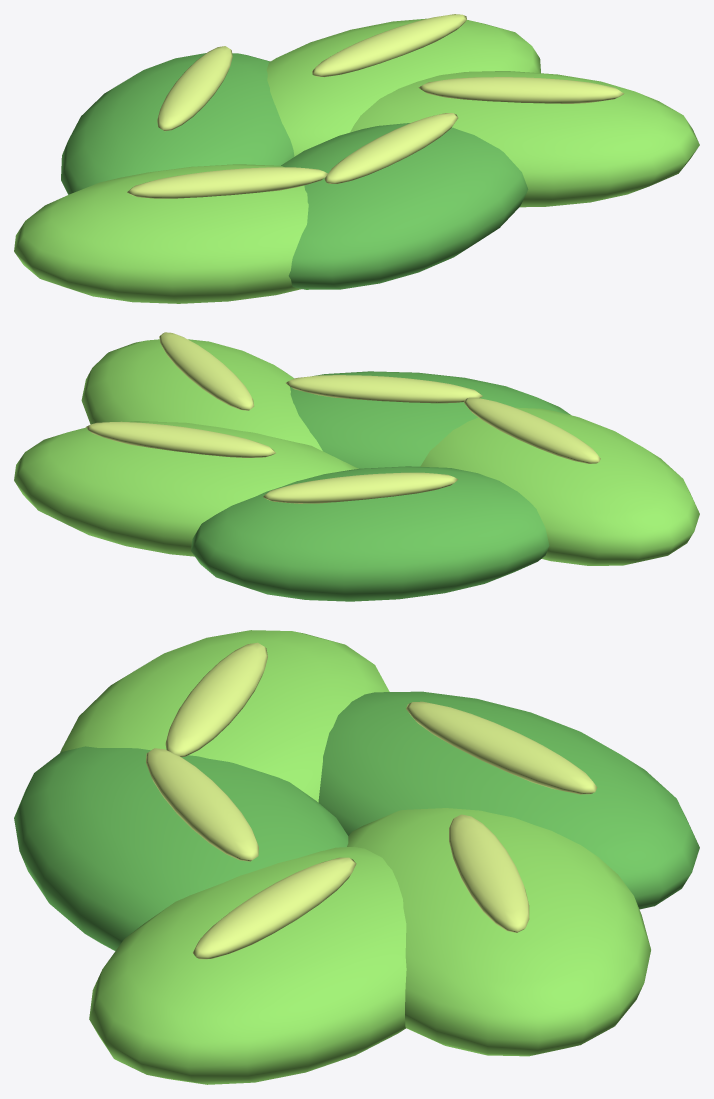
File: LettuceChopped.fbx
3 views of the same model, one above another, from view 1: azimuth 30°, elevation 25°; view 2: azimuth 150°, elevation 25°; view 3: azimuth 270°, elevation 25° (orthographic). The views are drawn at different scales.
Parts seen in each view (by area): view 1: MAT_Lettuce Geometry.001, MAT_LettuceDark Geometry.001, MAT_LettuceLight Geometry.001; view 2: MAT_Lettuce Geometry.001, MAT_LettuceDark Geometry.001, MAT_LettuceLight Geometry.001; view 3: MAT_Lettuce Geometry.001, MAT_LettuceDark Geometry.001, MAT_LettuceLight Geometry.001.
Boxes of the visible parts, x1,y1,x2,y2 form: MAT_Lettuce Geometry.001: (14,18,699,303); MAT_LettuceDark Geometry.001: (61,53,528,289); MAT_LettuceLight Geometry.001: (127,14,624,198); MAT_Lettuce Geometry.001: (14,339,699,565); MAT_LettuceDark Geometry.001: (191,371,570,601); MAT_LettuceLight Geometry.001: (86,332,600,503); MAT_Lettuce Geometry.001: (60,630,650,1084); MAT_LettuceDark Geometry.001: (14,691,699,950); MAT_LettuceLight Geometry.001: (146,642,597,959).
Size of the model in its own units: 92.35 by 14.7 by 63.68.
